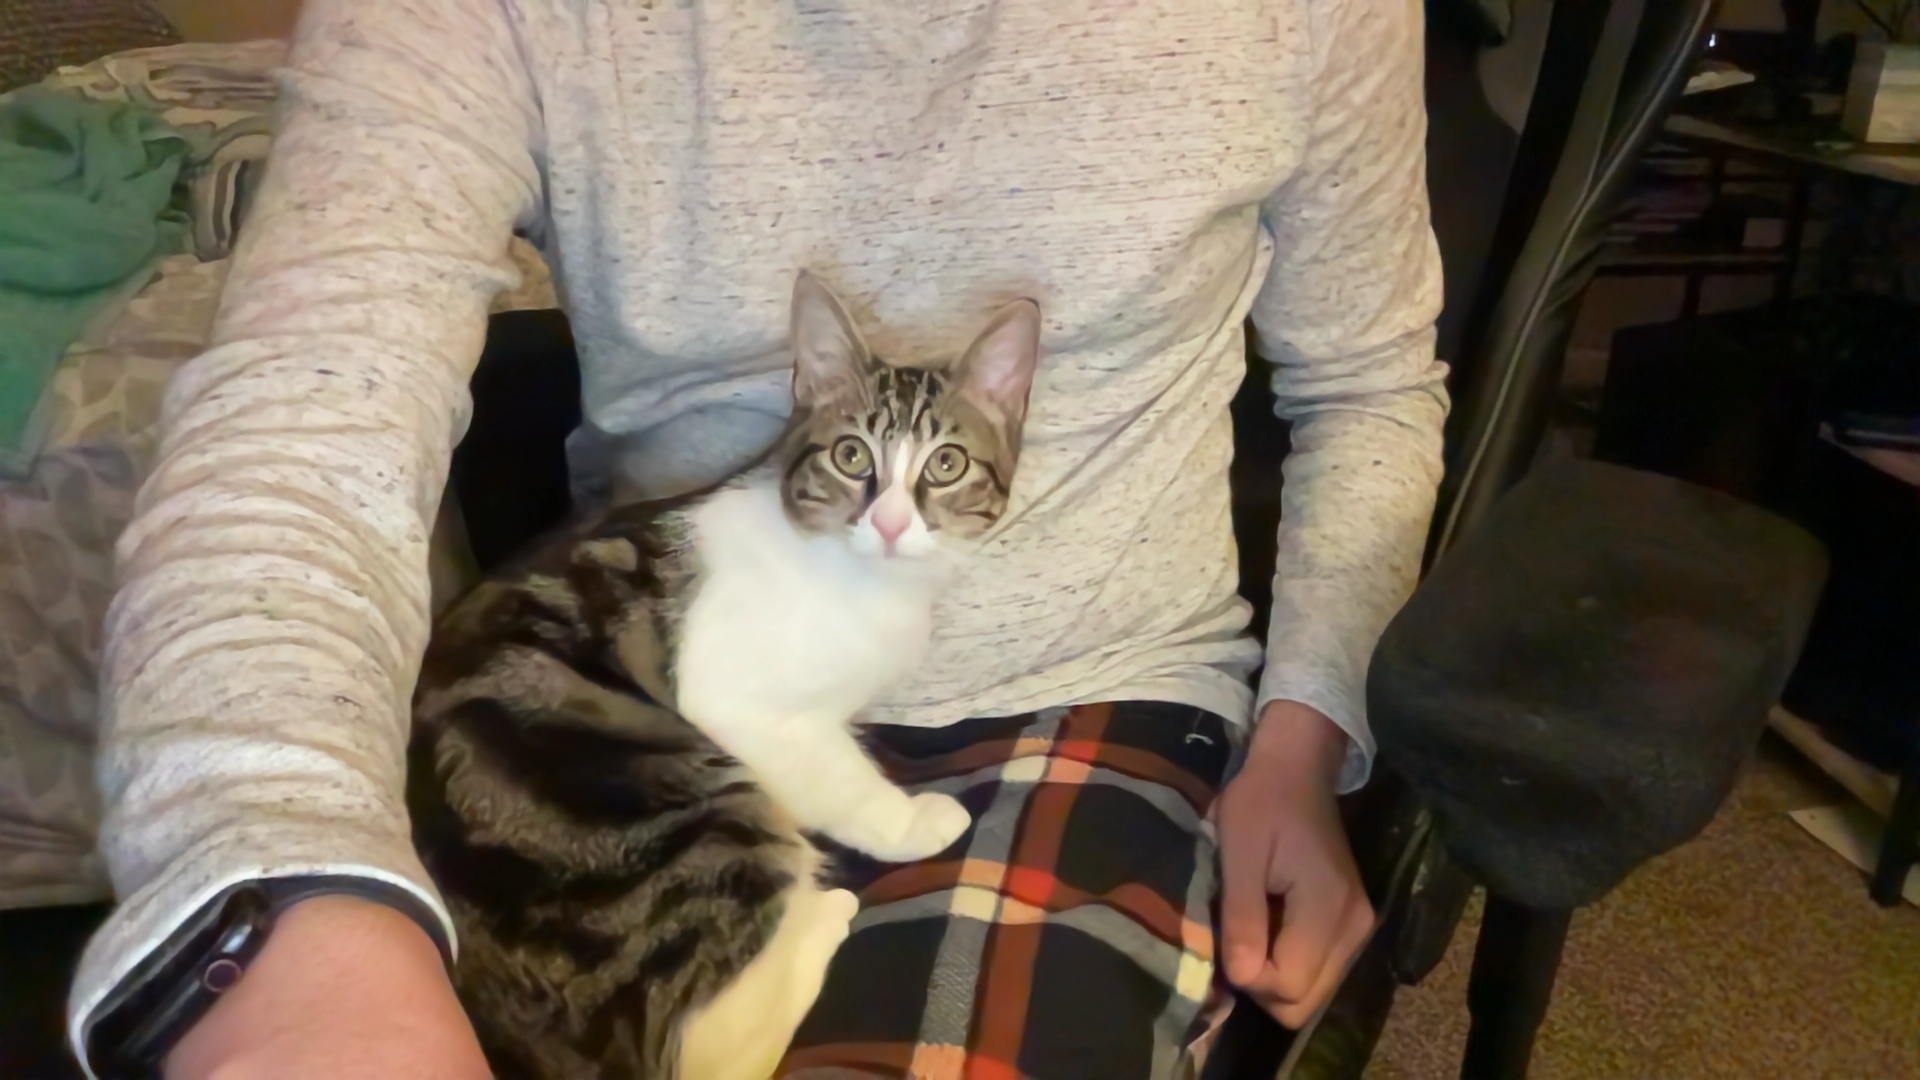cat: (392, 272, 1069, 1080)
